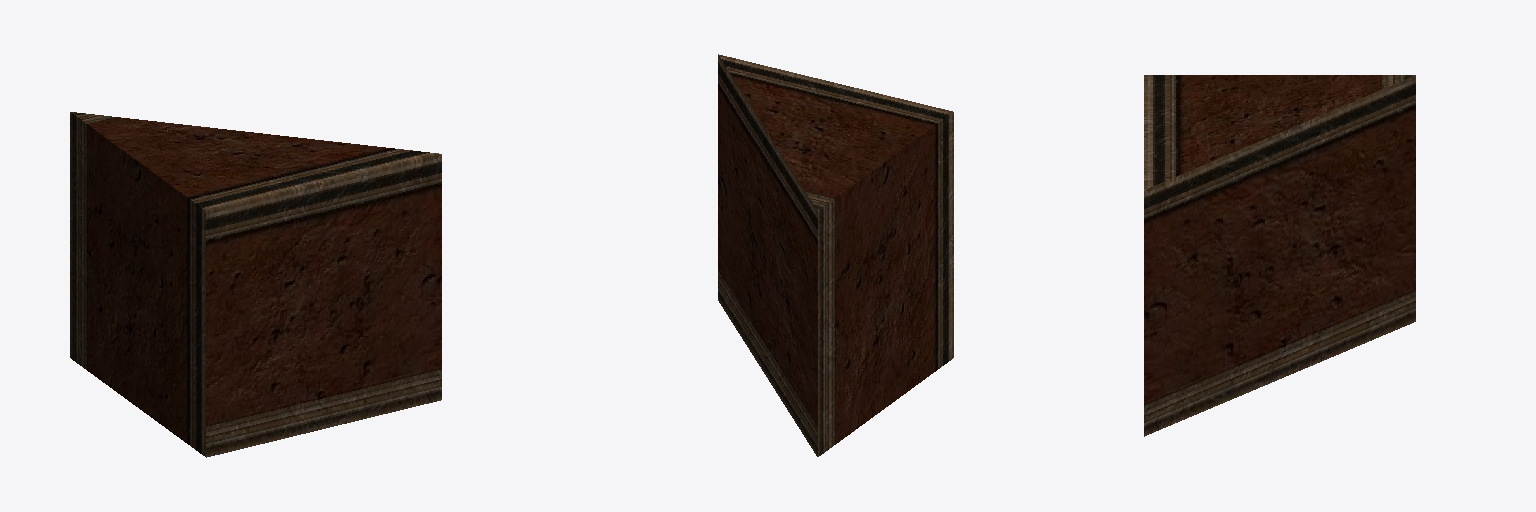
3 views of the same model, side by side, from view 1: azimuth 30°, elevation 25°; view 2: azimuth 150°, elevation 25°; view 3: azimuth 270°, elevation 25° (orthographic).
Bounding box in the file's own units: 64 × 64 × 64.
Materials: 1 (1 with a texture image).